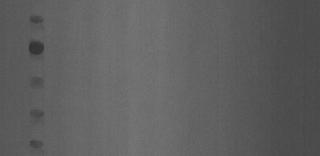oil spot: (26, 36, 49, 60), (28, 10, 50, 28), (26, 106, 48, 120), (28, 75, 48, 89), (29, 136, 47, 150)
